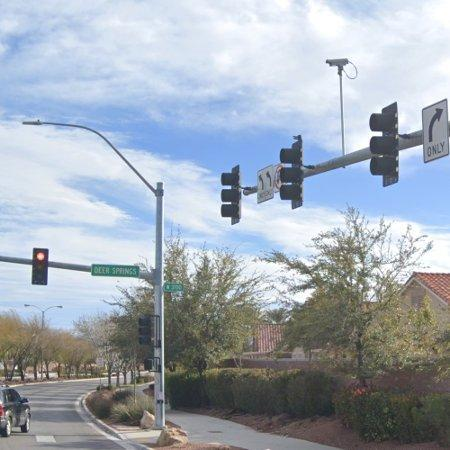traffic lights: (370, 104, 398, 184), (280, 140, 303, 211), (32, 247, 50, 287)
